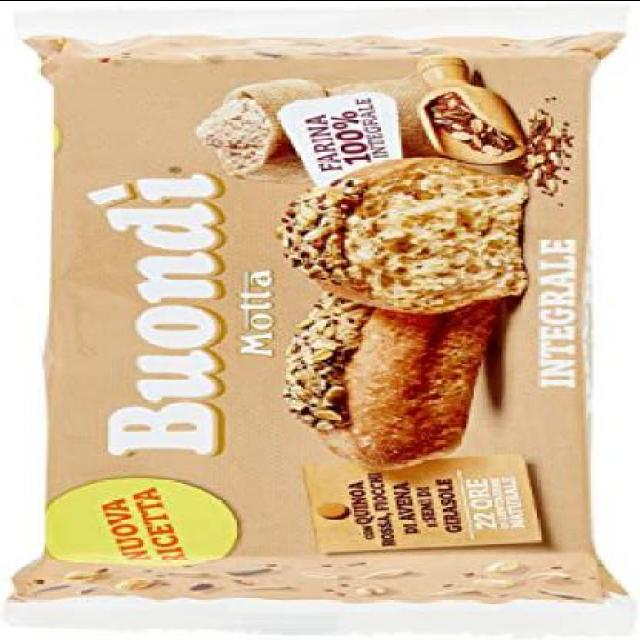Merendine: (4, 1, 638, 636)
